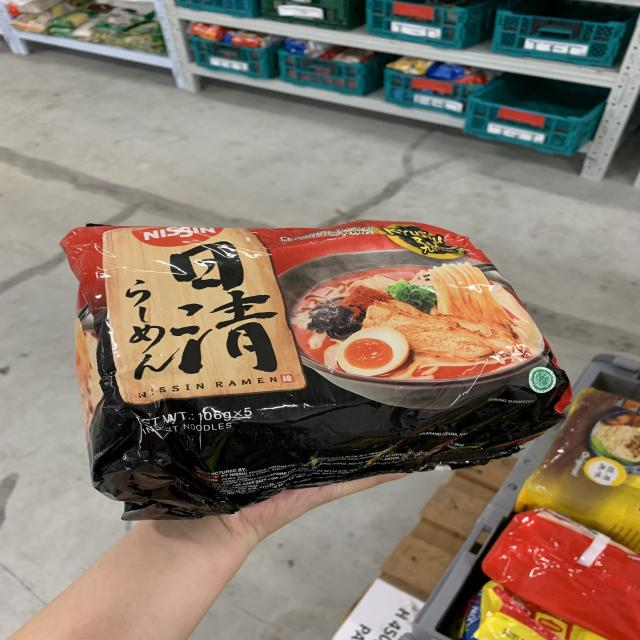object_name: (84, 234, 551, 451)
